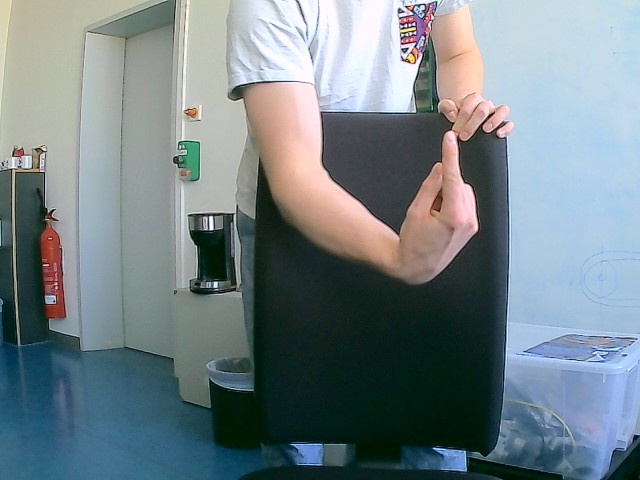6: (395, 129, 479, 286)
no_gesture: (436, 91, 515, 142)
